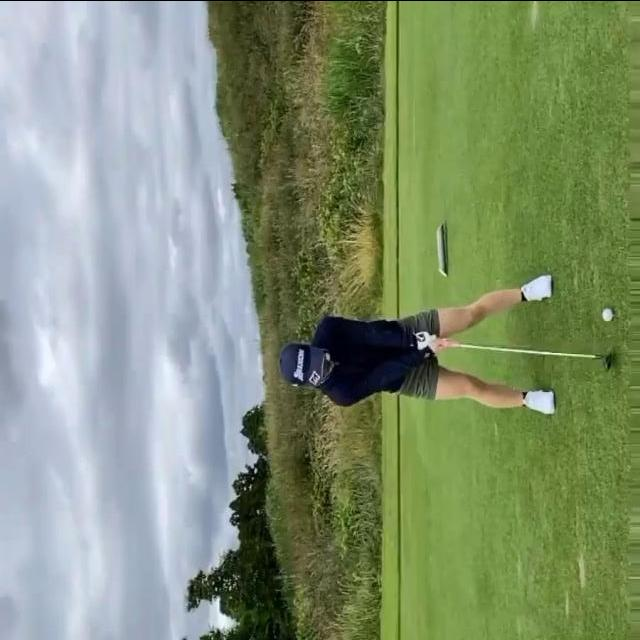golf ball: (603, 306, 614, 321)
golf club-handle: (412, 333, 616, 374)
golf club-head: (604, 349, 612, 372)
